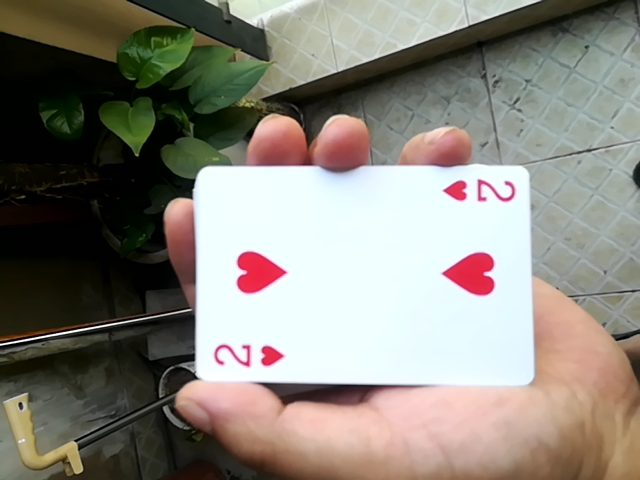hx 2: (183, 148, 537, 389)
